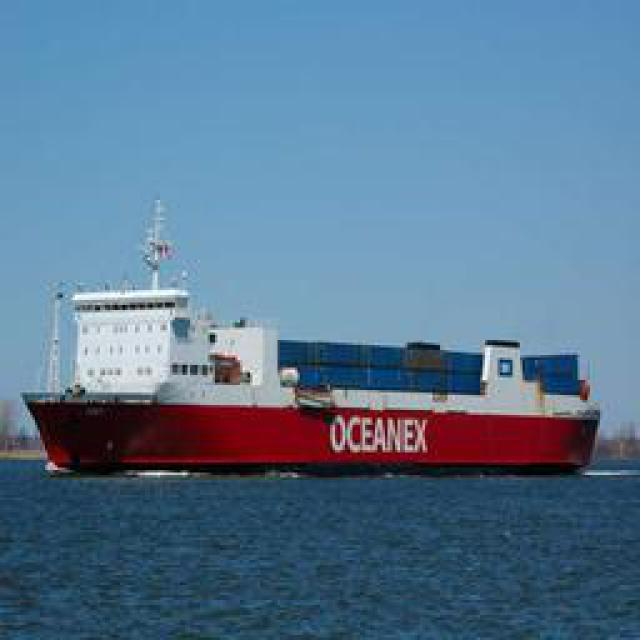Ship: (16, 280, 614, 478)
